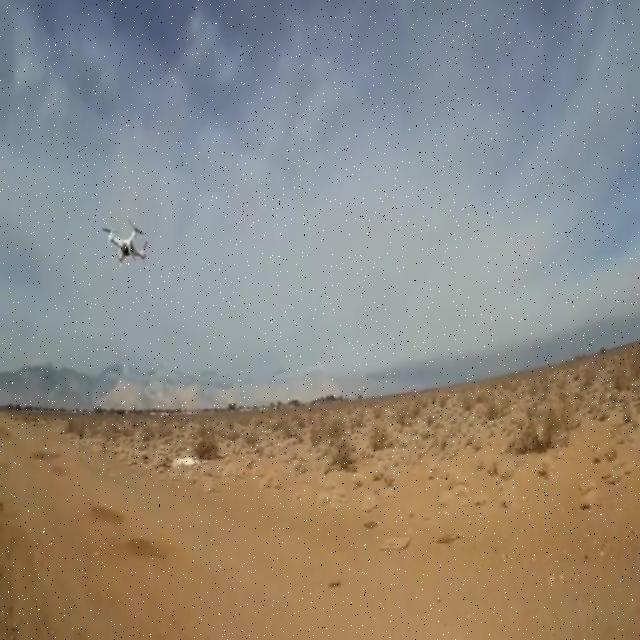UAV: (104, 222, 150, 268)
